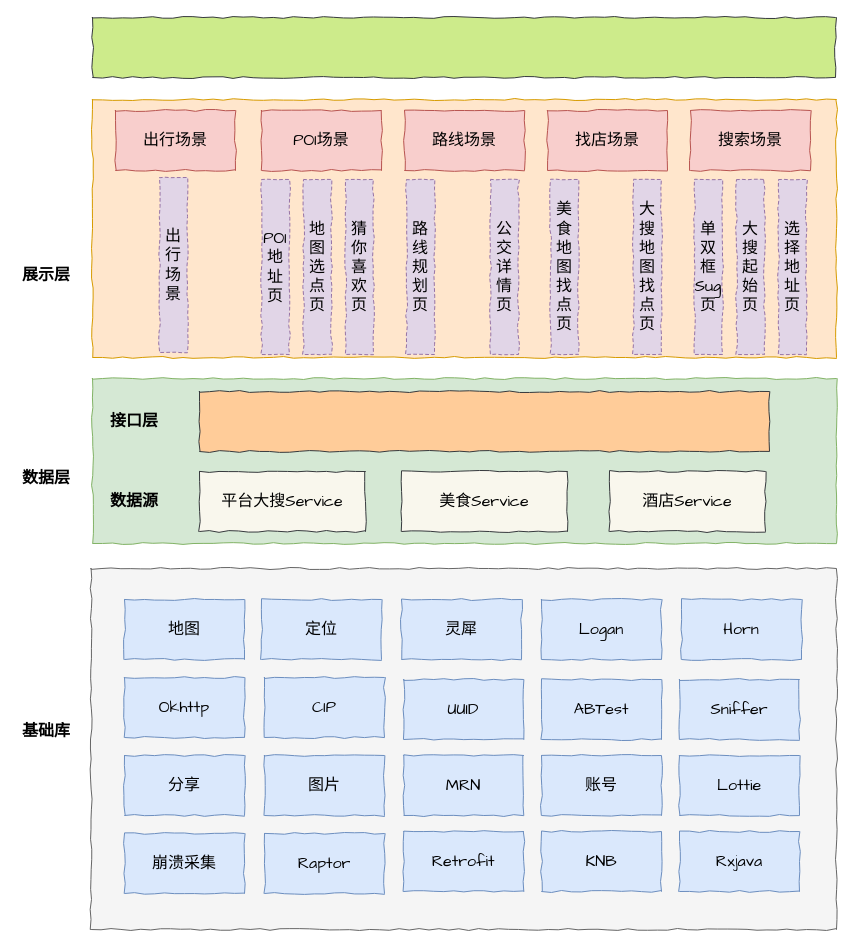
Image size: 854x947. Some labels were removed from this diagram. The centre of each missing label's shape, as x and y in pixels:
Facade Service: point 484,421
壳App: point 464,47
